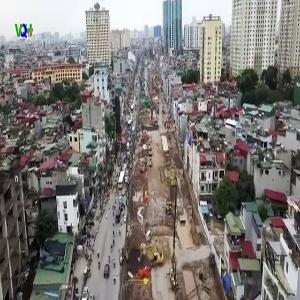drone: (42, 94, 97, 149)
